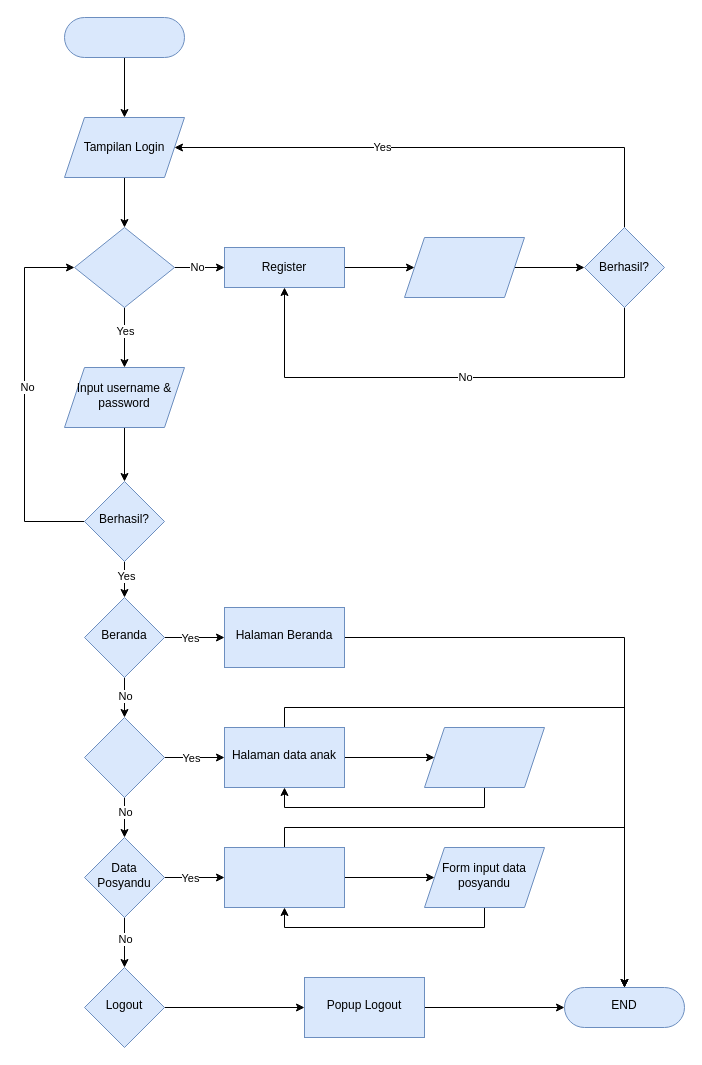
Some shapes in this 702 by 1065 pixel diagram are drawn without their labels. The shapes that lost their labels are listed below. From the top down, each one's box as (x1, y1, x2, y2) in pixels, then its label:
(64, 16, 184, 58): START
(74, 226, 174, 308): Punya Akun?
(404, 236, 524, 298): Input data diri
(84, 716, 164, 798): Data Anak
(424, 726, 544, 788): Form input data anak
(224, 846, 344, 908): Halaman Data Posyandu
